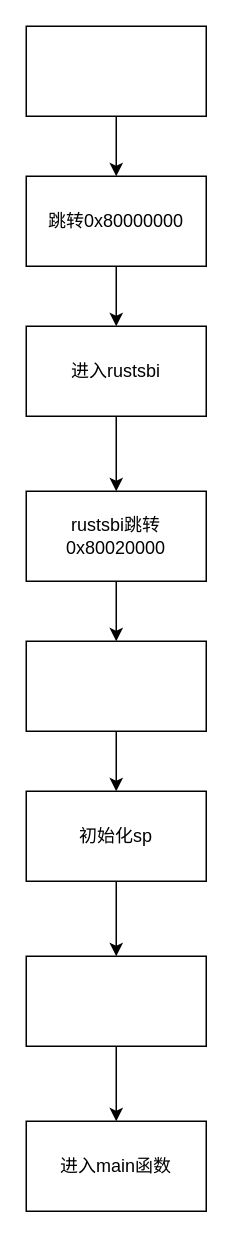
Some shapes in this 233 by 1238 pixel diagram are drawn without their labels. The shapes that lost their labels are listed below. From the top down, each one's box as (x1, y1, x2, y2) in pixels, then its label:
(25, 25, 206, 116): 上电
(25, 640, 206, 731): 初始化内核页表
(25, 955, 206, 1046): 初始化中断
